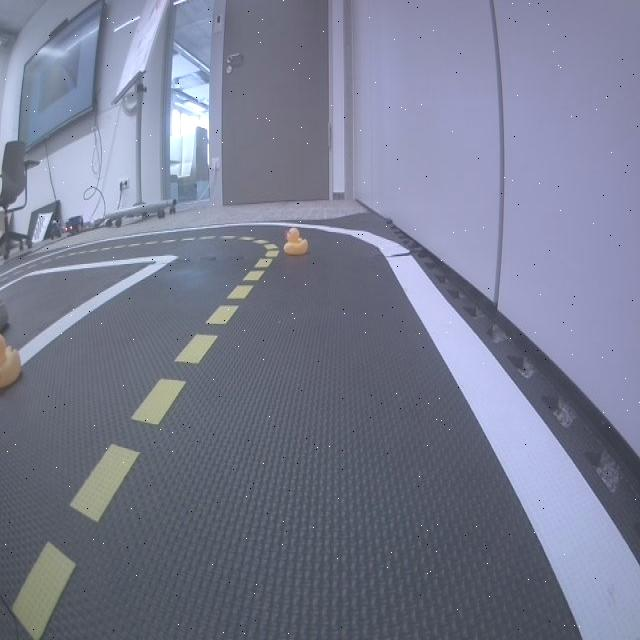duckie: (0, 333, 22, 393), (283, 227, 309, 256)
